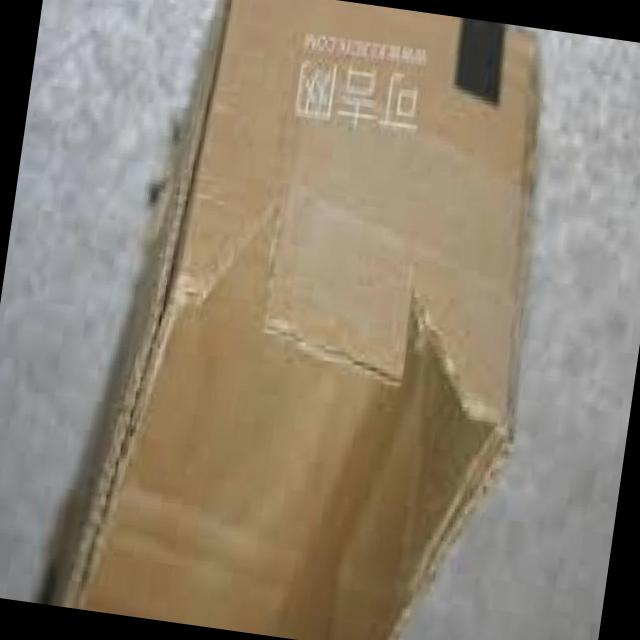cardboard paper: (79, 0, 538, 640)
